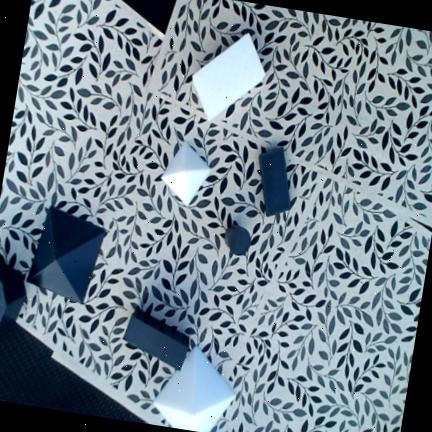Cilindro: (224, 225, 250, 255)
Paralelepipedo: (191, 31, 266, 123), (123, 307, 189, 372), (258, 146, 290, 217)
Piramide: (26, 206, 106, 303), (152, 344, 237, 432), (161, 141, 211, 207)
Prisma_hexagonal: (0, 262, 26, 333)
